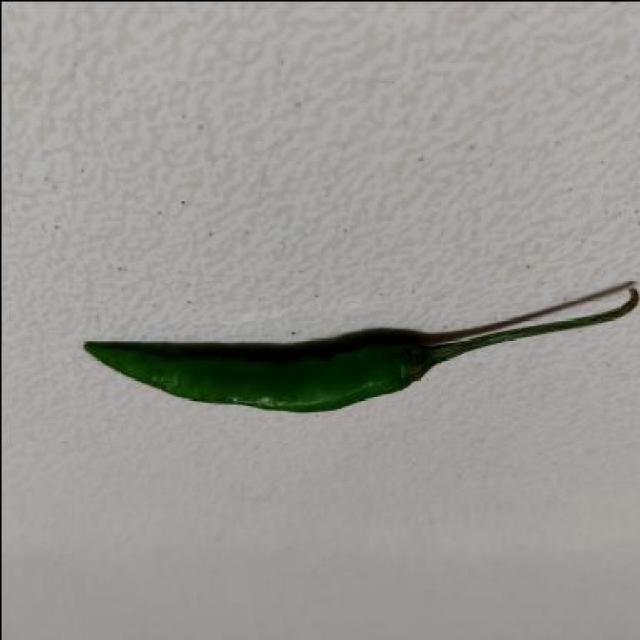Green Chili: (67, 241, 640, 426)
